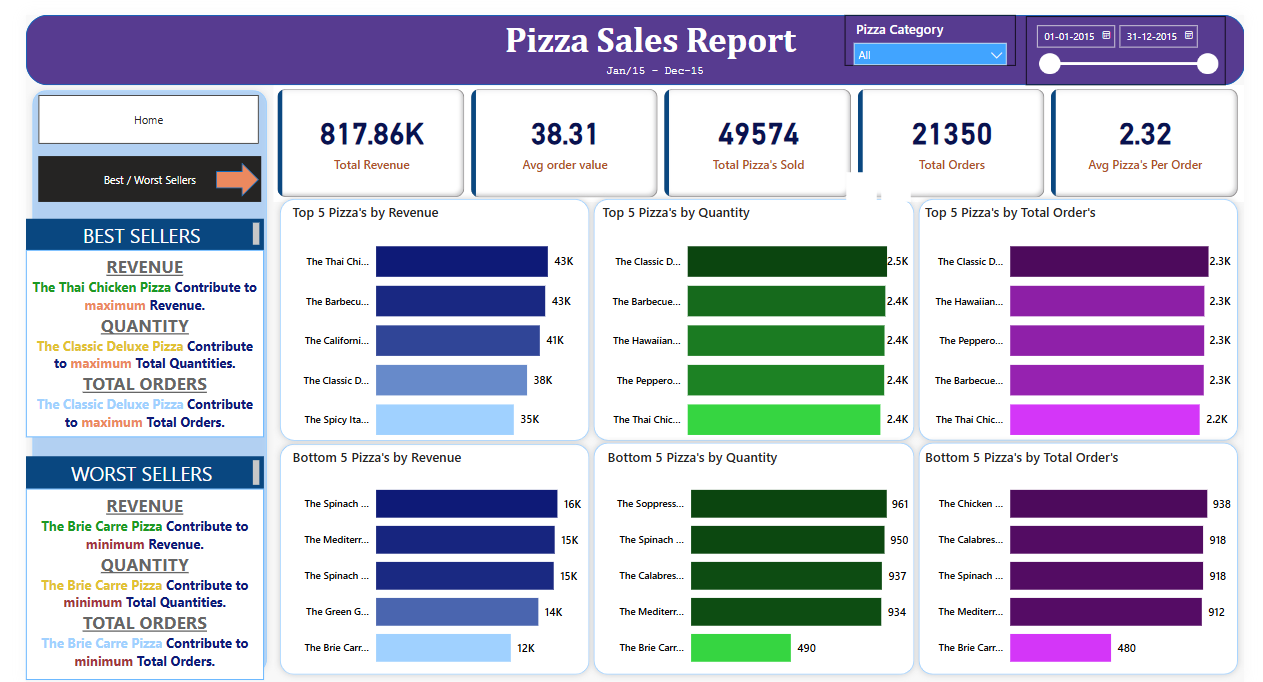

What the dashboard file says about the page in this screenshot:
{"tool":"powerbi","page":{"name":"Best / Worst Sellers","canvas":[1500,820],"ordinal":1},"visuals":[{"type":"shape","box":[304.5,519.7,397,300],"z":0},{"type":"shape","box":[0,84.8,304.5,733.3],"z":1000},{"type":"cardVisual","fields":{"Data":["pizza_sales.Total Revenue","pizza_sales.Avg order value","pizza_sales.Total Pizza's Sold","pizza_sales.Total Orders","pizza_sales.Avg Pizza's Per Order"]},"box":[304.5,86.4,1195.5,143.9],"z":2000},{"type":"shape","box":[0,0,1500,86.4],"z":3000},{"type":"textbox","box":[556,0,426,86],"z":4000},{"type":"shape","box":[304.5,218.2,397,313.6],"z":5000},{"type":"textbox","box":[0,250,292.4,39.4],"z":6000},{"type":"textbox","box":[0,289.4,292.4,230.3],"z":7000},{"type":"textbox","box":[0,542.4,292.4,40.9],"z":8000},{"type":"textbox","box":[0,583.3,292.4,234.8],"z":9000},{"type":"slicer","fields":{"Values":["pizza_sales.pizza_category"]},"box":[1008,0,210,62],"z":10000},{"type":"slicer","fields":{"Values":["pizza_sales.order_date"]},"box":[1230.3,1.5,245.5,84.8],"z":11000},{"type":"shape","box":[690.9,218.2,410.6,313.6],"z":12000},{"type":"shape","box":[1090.9,218.2,409.1,313.6],"z":13000},{"type":"shape","box":[690.9,518.2,410.6,301.5],"z":14000},{"type":"shape","box":[1090.9,518.2,409.1,301.5],"z":15000},{"type":"barChart","title":"Top 5 Pizza''s by Revenue","fields":{"Category":["pizza_sales.pizza_name"],"Y":["pizza_sales.Total Revenue"]},"box":[322.7,230.3,378.8,312.1],"z":16000},{"type":"barChart","title":"Bottom 5 Pizza''s by Revenue","fields":{"Category":["pizza_sales.pizza_name"],"Y":["pizza_sales.Total Revenue"]},"box":[322.7,531.8,378.8,287.9],"z":17000},{"type":"barChart","title":"Top 5 Pizza''s by Quantity","fields":{"Category":["pizza_sales.pizza_name"],"Y":["pizza_sales.Total Pizza's Sold"]},"box":[704.5,230.3,386.4,312.1],"z":18000},{"type":"barChart","title":"Bottom 5 Pizza''s by Quantity","fields":{"Category":["pizza_sales.pizza_name"],"Y":["pizza_sales.Total Pizza's Sold"]},"box":[710.6,531.8,380.3,287.9],"z":19000},{"type":"barChart","title":"Top 5 Pizza''s by Total Order''s","fields":{"Category":["pizza_sales.pizza_name"],"Y":["pizza_sales.Total Orders"]},"box":[1101.5,230.3,386.4,312.1],"z":20000},{"type":"barChart","title":"Bottom 5 Pizza''s by Total Order''s","fields":{"Category":["pizza_sales.pizza_name"],"Y":["pizza_sales.Total Orders"]},"box":[1101.5,531.8,386.4,287.9],"z":21000},{"type":"pageNavigator","box":[15.2,98.5,271.2,60.6],"z":22000},{"type":"pageNavigator","box":[15.2,174.2,274.2,56.1],"z":23000},{"type":"textbox","box":[566.7,54.5,415.2,30.3],"z":24000},{"type":"shape","box":[233.3,181.8,53,42.4],"z":25000}]}

Visuals, with their boxes in screenshot pixels (x1, y1, x2, y2), scaled from the page's 1500x820 canvas onto the 1263x682 screenshot:
shape: locate(256, 432, 591, 681)
shape: locate(0, 71, 256, 680)
cardVisual - pizza_sales.Total Revenue x pizza_sales.Avg order value: locate(256, 72, 1262, 192)
shape: locate(0, 0, 1262, 72)
textbox: locate(468, 0, 827, 72)
shape: locate(256, 181, 591, 442)
textbox: locate(0, 208, 246, 241)
textbox: locate(0, 241, 246, 432)
textbox: locate(0, 451, 246, 485)
textbox: locate(0, 485, 246, 680)
slicer - pizza_sales.pizza_category: locate(849, 0, 1026, 52)
slicer - pizza_sales.order_date: locate(1036, 1, 1243, 72)
shape: locate(582, 181, 927, 442)
shape: locate(919, 181, 1262, 442)
shape: locate(582, 431, 927, 681)
shape: locate(919, 431, 1262, 681)
"Top 5 Pizza''s by Revenue" barChart: locate(272, 192, 591, 451)
"Bottom 5 Pizza''s by Revenue" barChart: locate(272, 442, 591, 681)
"Top 5 Pizza''s by Quantity" barChart: locate(593, 192, 919, 451)
"Bottom 5 Pizza''s by Quantity" barChart: locate(598, 442, 919, 681)
"Top 5 Pizza''s by Total Order''s" barChart: locate(927, 192, 1253, 451)
"Bottom 5 Pizza''s by Total Order''s" barChart: locate(927, 442, 1253, 681)
pageNavigator: locate(13, 82, 241, 132)
pageNavigator: locate(13, 145, 244, 192)
textbox: locate(477, 45, 827, 71)
shape: locate(196, 151, 241, 186)
